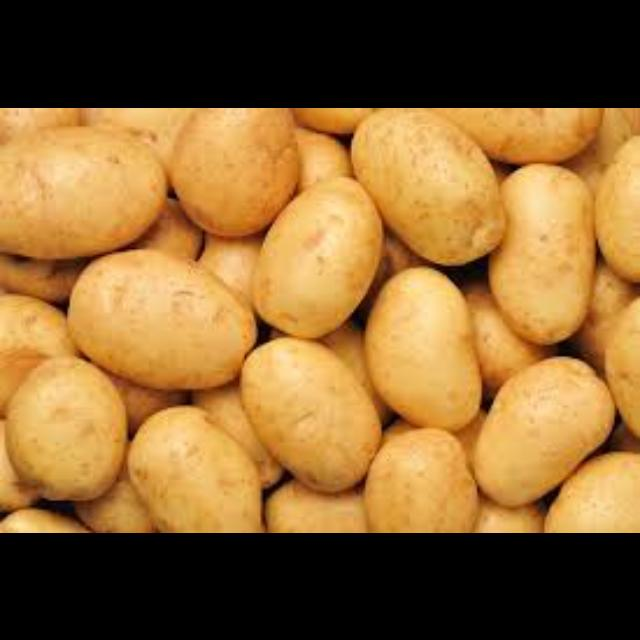Potato: (348, 107, 520, 265), (230, 332, 386, 500), (75, 246, 259, 382), (474, 352, 620, 512), (0, 120, 174, 254), (261, 174, 387, 342), (484, 160, 604, 336), (362, 266, 490, 422), (5, 356, 125, 506), (134, 409, 276, 533), (170, 107, 302, 237)
